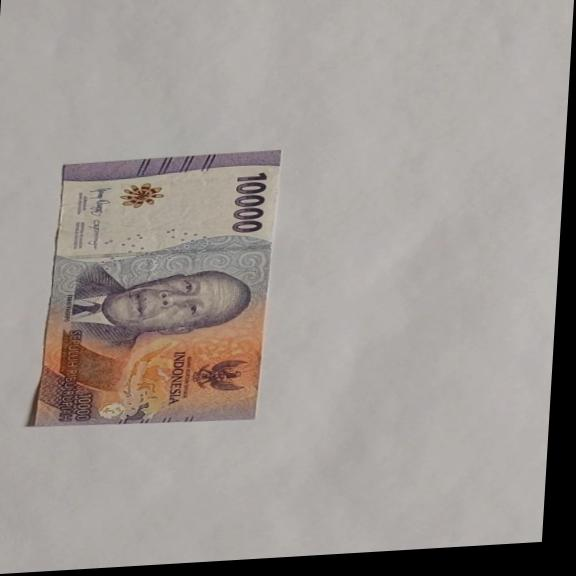Kertas: (29, 149, 283, 433), (229, 171, 271, 234)
